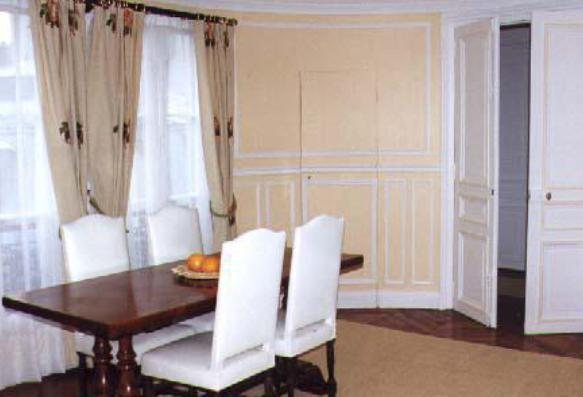Puerta: (527, 16, 583, 334), (452, 28, 498, 329)
